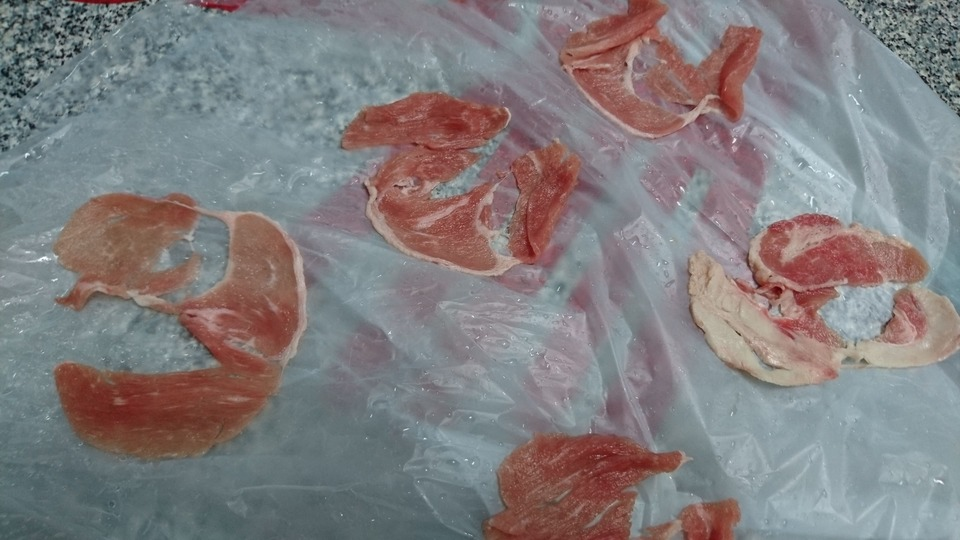restructured meat: (52, 189, 307, 465), (683, 212, 960, 389), (343, 85, 576, 275), (486, 428, 748, 540), (558, 1, 762, 142)
